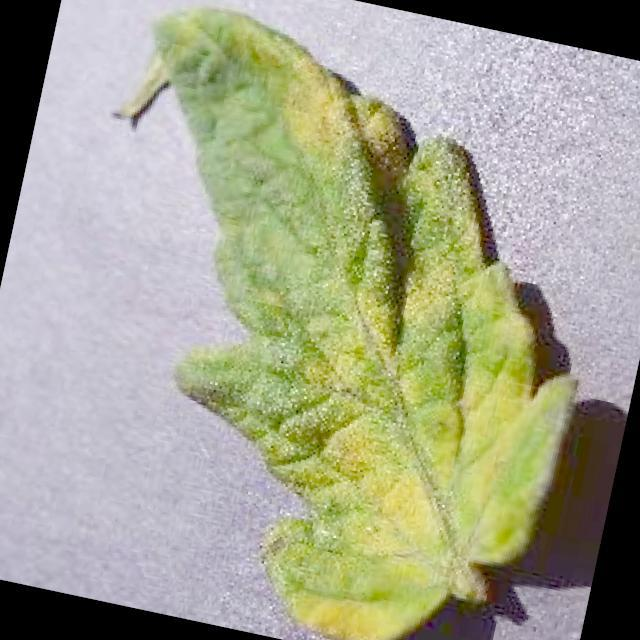Tomato healthy leaf: (31, 0, 638, 640)
